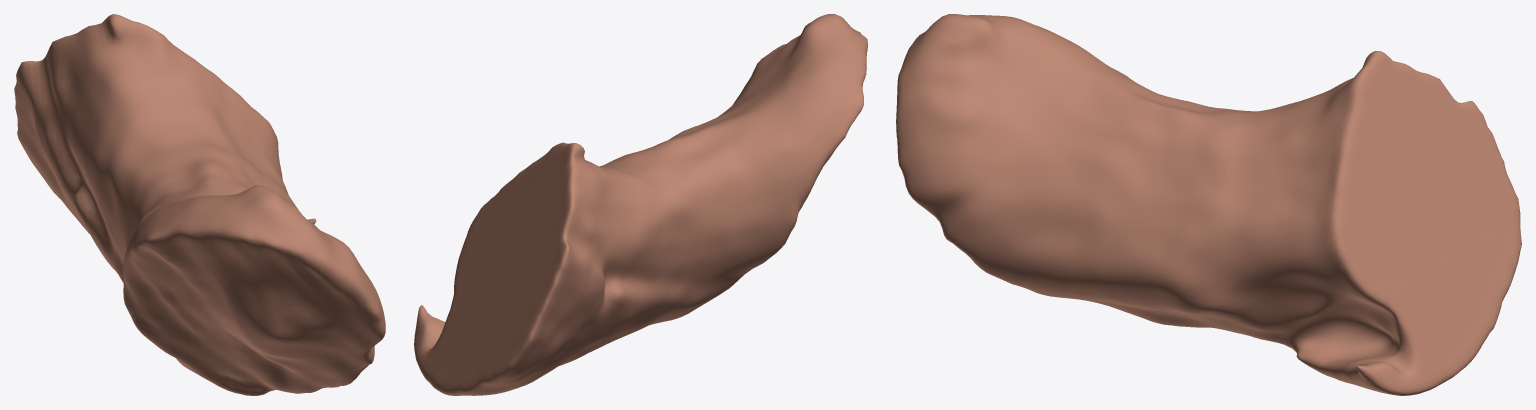
The model's file is external-auditory-canal.glb.
3 views of the same model, side by side, from view 1: azimuth 30°, elevation 25°; view 2: azimuth 150°, elevation 25°; view 3: azimuth 270°, elevation 25° (orthographic). The views are drawn at different scales.
Visible parts, largest first — view 1: 10_External Auditory Canal.ply; view 2: 10_External Auditory Canal.ply; view 3: 10_External Auditory Canal.ply.
Part boxes in pixels (box(x1,y1,x2,y2)): 10_External Auditory Canal.ply: box(14, 14, 385, 395); 10_External Auditory Canal.ply: box(414, 14, 867, 395); 10_External Auditory Canal.ply: box(896, 14, 1521, 395).
Size of the model in its own units: 13.38 by 11.29 by 22.51.
